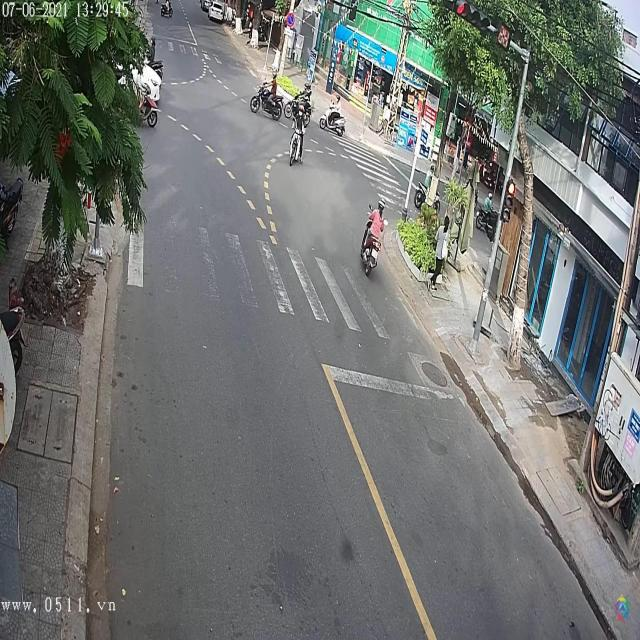motorcycle: (358, 210, 387, 278), (249, 80, 280, 116), (319, 104, 347, 138), (288, 122, 306, 167), (160, 2, 173, 18)
